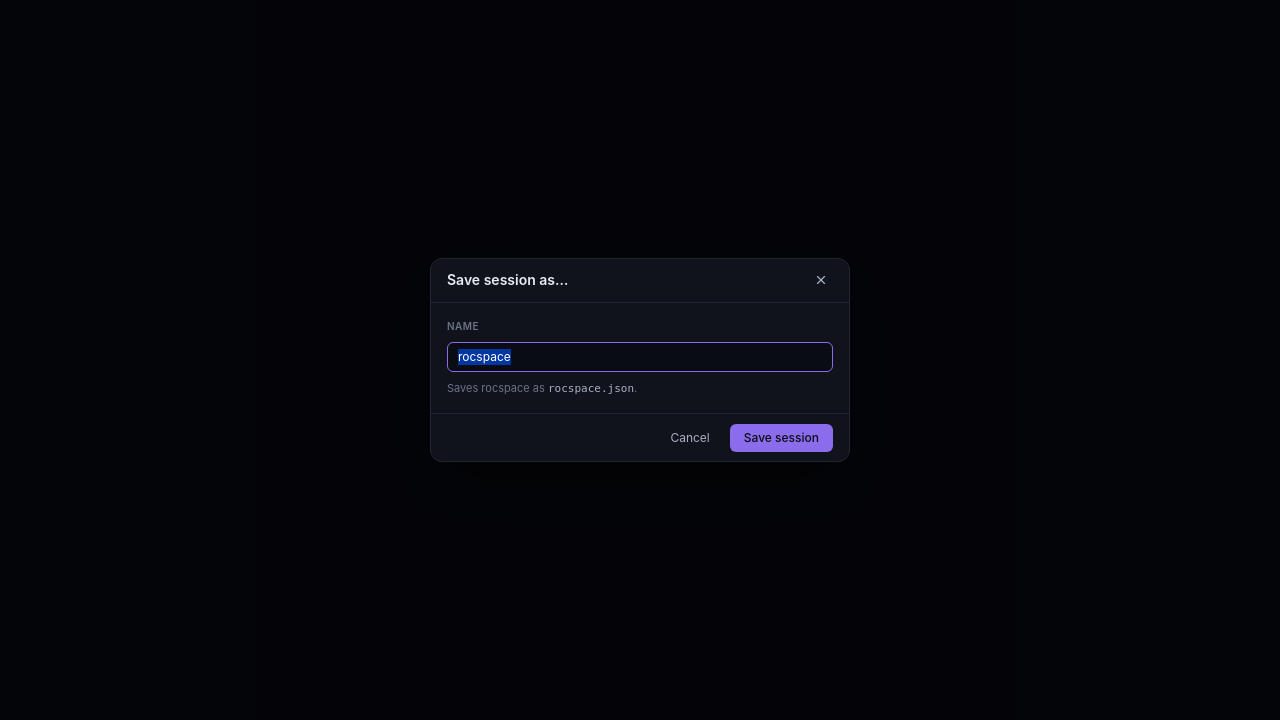
Test: opening › says which file the name becomes
Replace the text in the field labelled "Name" with "Friday Review" at (640,357), box [447,342,833,372]
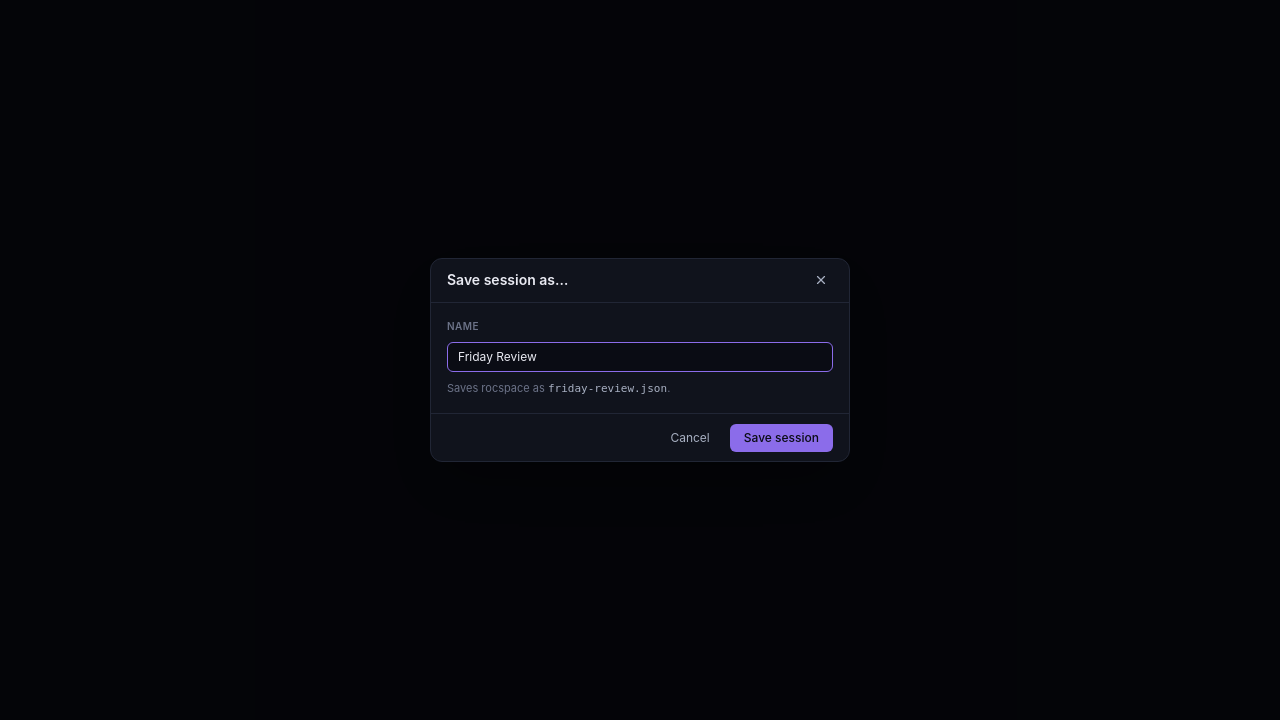
Expected: the text "friday-review.json" is shown, [548,382,667,395]
